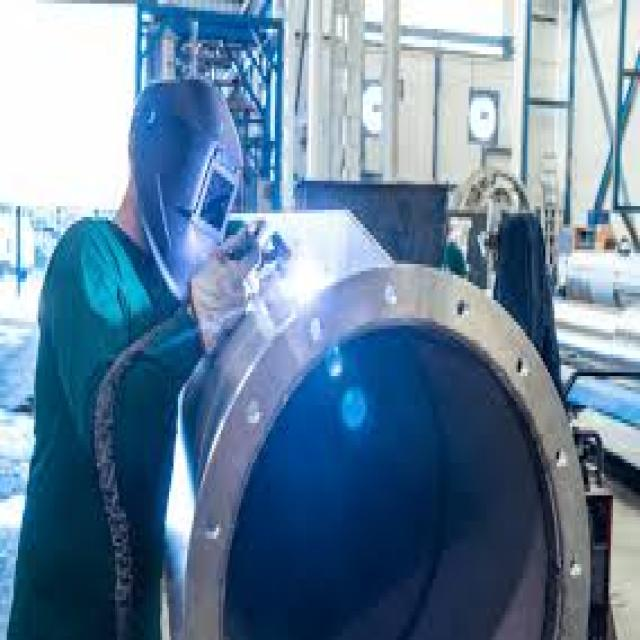welding: (288, 250, 318, 294)
